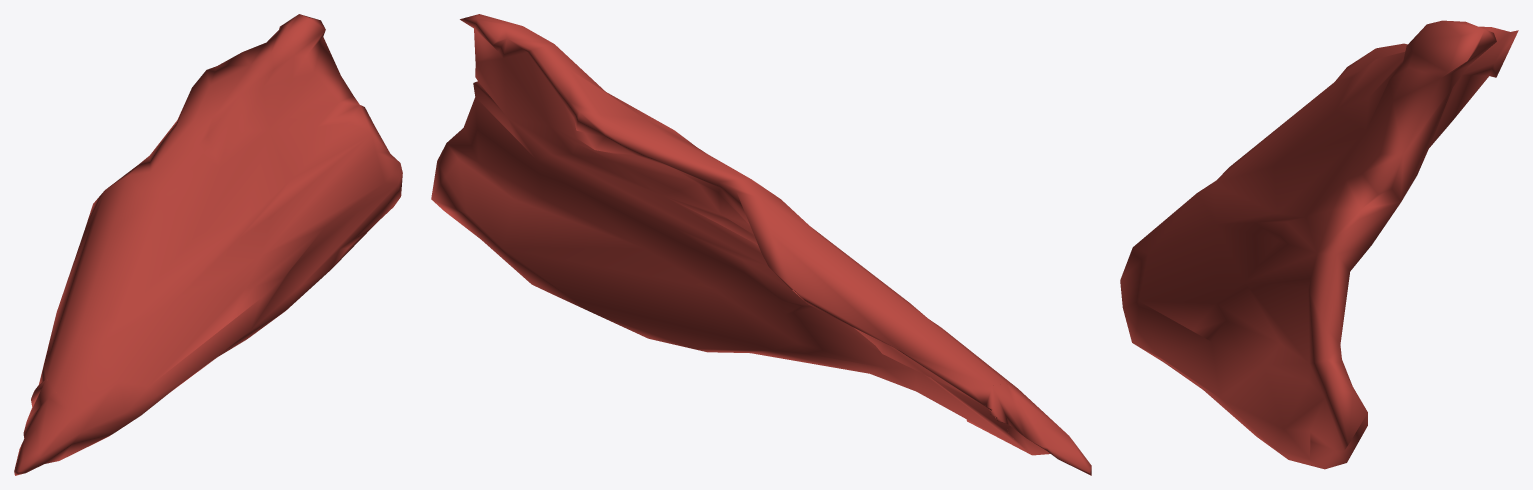
Rendered from musculos-deep-head-of-flexor-pollicis-brevis-r.glb.
3 renders of one model, left to right at view 1: azimuth 30°, elevation 25°; view 2: azimuth 150°, elevation 25°; view 3: azimuth 270°, elevation 25°, orthographic. The views are drawn at different scales.
Visible parts, largest first — view 1: Deep head of flexor pollicis brevis.r; view 2: Deep head of flexor pollicis brevis.r; view 3: Deep head of flexor pollicis brevis.r.
Boxes of the visible parts, bbox=[...] form: Deep head of flexor pollicis brevis.r: bbox=[14, 14, 402, 475]; Deep head of flexor pollicis brevis.r: bbox=[431, 14, 1091, 475]; Deep head of flexor pollicis brevis.r: bbox=[1120, 20, 1518, 469].
Bounding box in the file's own units: 0.0491 × 0.0333 × 0.0194.
